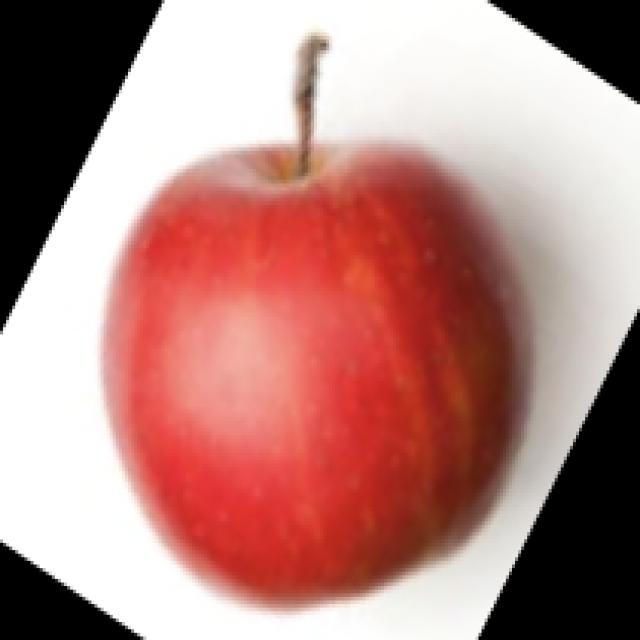Fresh Apple: (123, 133, 517, 572)
